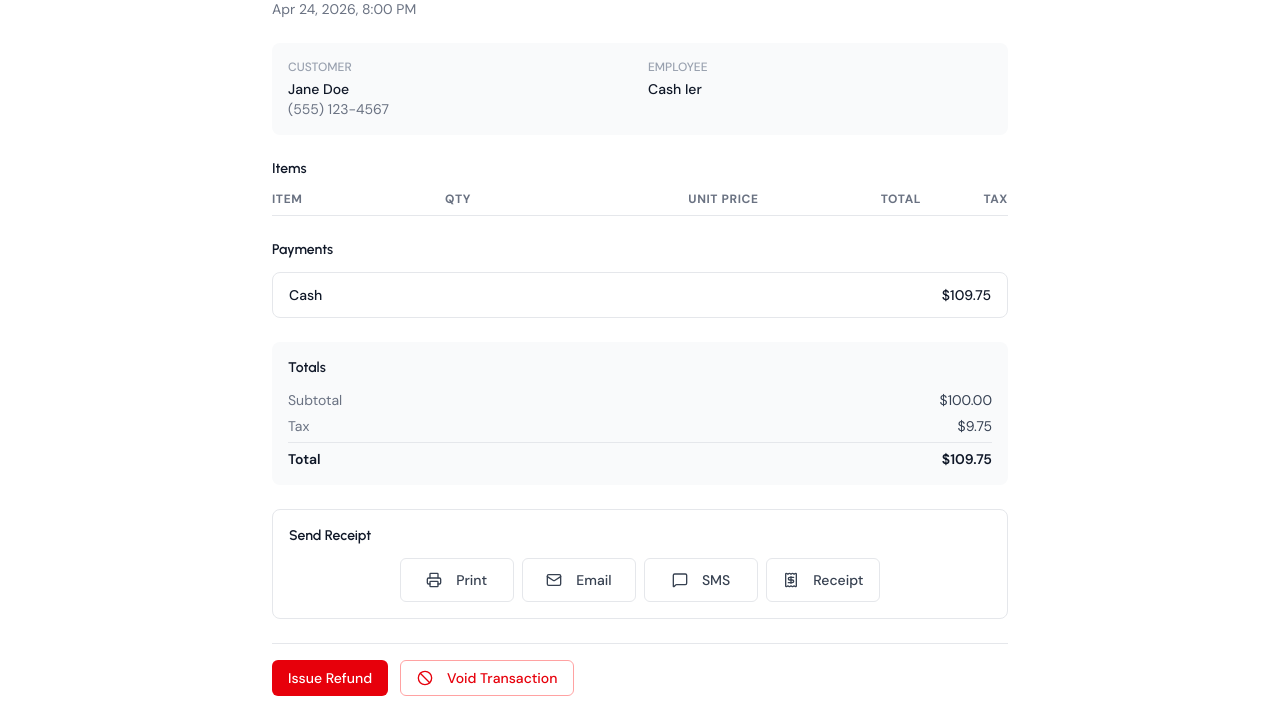
Test: TransactionDetail — void confirmation dialog language › keeps confirm button disabled until VOID phrase is typed
(page scrolled)
Step 1. Click the button "Void Transaction" → click(487, 678), box x1=400 y1=660 x2=574 y2=696
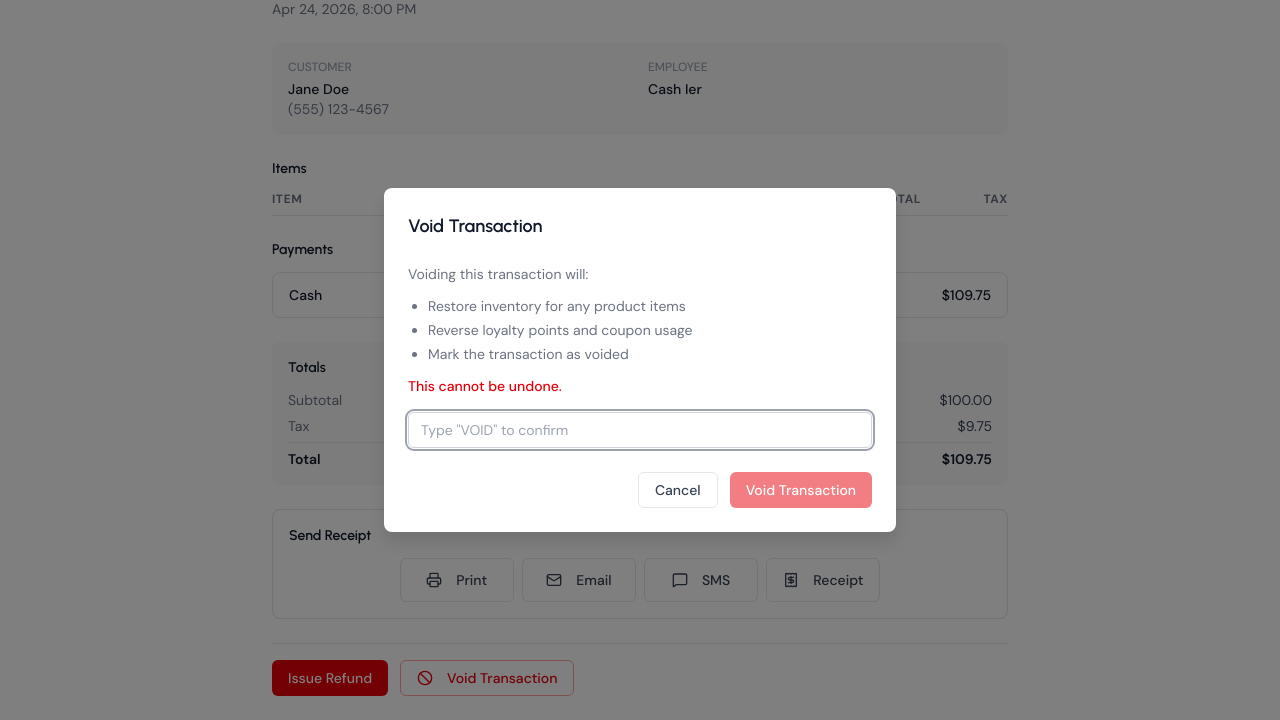
Check: the field with placeholder "Type \"VOID\" to confirm" is shown
Check: the button "Void Transaction" is disabled, box x1=730 y1=472 x2=872 y2=508
Step 2. Type "VOID" into the field with placeholder "Type \"VOID\" to confirm" → (640, 430), box x1=408 y1=412 x2=872 y2=448
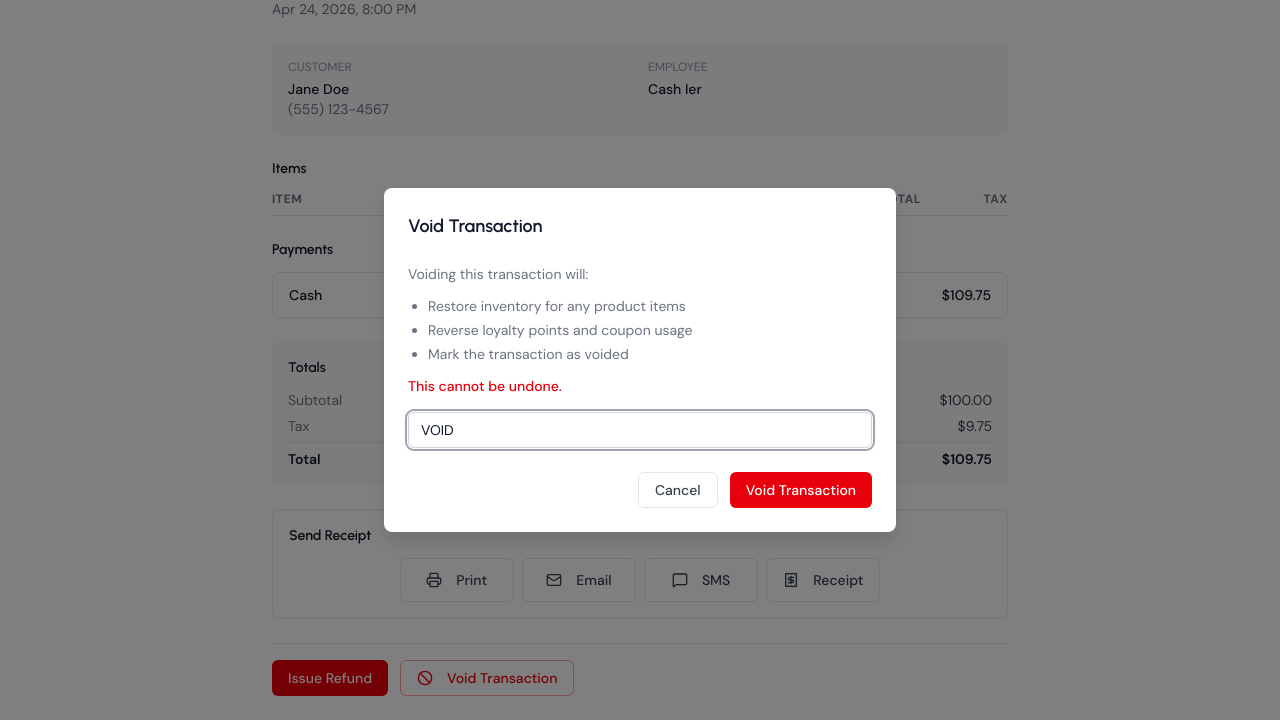
Check: the button "Void Transaction" is enabled, box x1=730 y1=472 x2=872 y2=508
